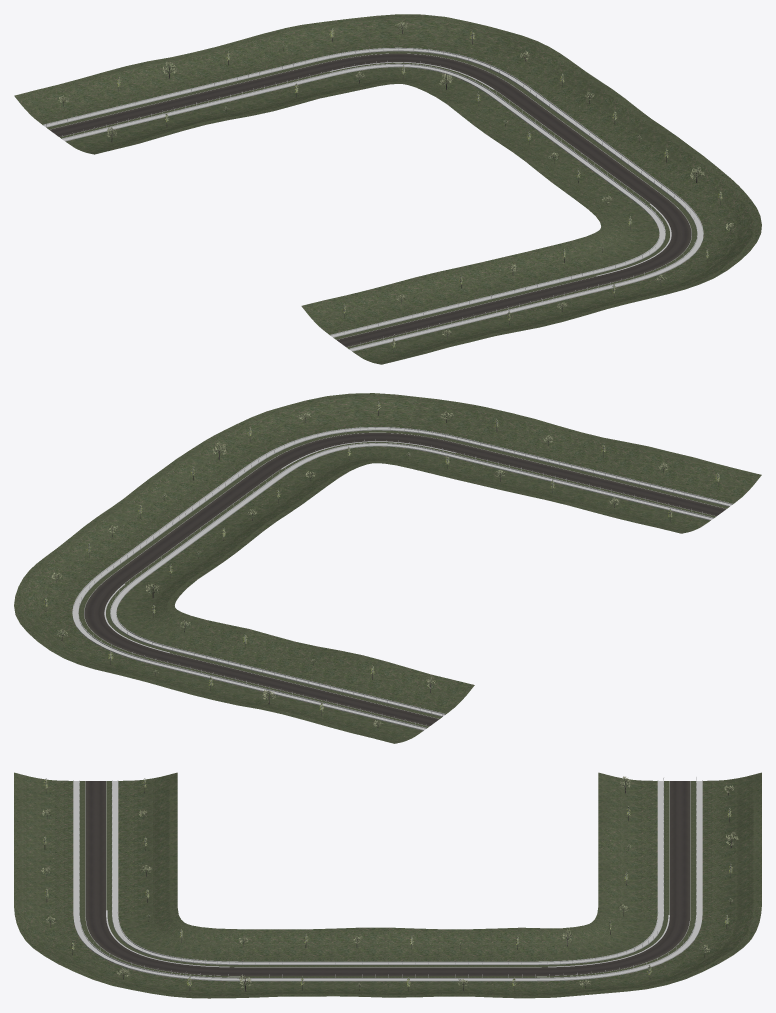
3 views of the same model, one above another, from view 1: azimuth 30°, elevation 25°; view 2: azimuth 150°, elevation 25°; view 3: azimuth 270°, elevation 25° (orthographic).
Parts seen in each view (by area): view 1: Grass, Road, Track, Trees; view 2: Grass, Road, Track, Trees; view 3: Grass, Road, Track, Trees.
Part boxes in pixels (left/top/right/bottom): Grass: left=14, top=14, right=761, bottom=364; Road: left=49, top=53, right=691, bottom=347; Track: left=43, top=47, right=703, bottom=351; Trees: left=58, top=22, right=734, bottom=352; Grass: left=14, top=393, right=761, bottom=743; Road: left=84, top=433, right=726, bottom=726; Track: left=72, top=426, right=732, bottom=730; Trees: left=44, top=401, right=719, bottom=730; Grass: left=14, top=772, right=761, bottom=998; Road: left=85, top=781, right=690, bottom=976; Track: left=73, top=777, right=702, bottom=981; Trees: left=41, top=776, right=738, bottom=991.
Size of the model in its own units: 45660 by 1895 by 64000.
